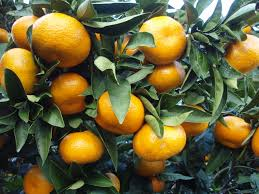orange: (29, 12, 91, 65), (137, 15, 187, 63), (96, 89, 146, 135), (135, 120, 187, 161), (1, 48, 38, 98), (47, 74, 90, 116), (222, 28, 259, 72), (146, 60, 187, 96), (214, 113, 252, 150), (58, 132, 104, 162)
